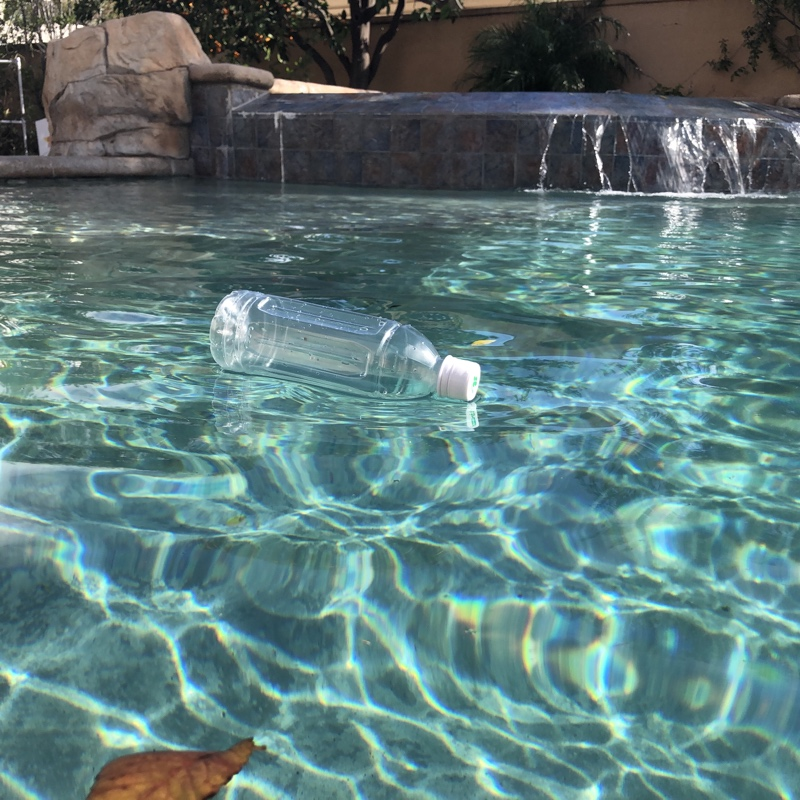Plastic Bottle: (207, 286, 486, 411)
